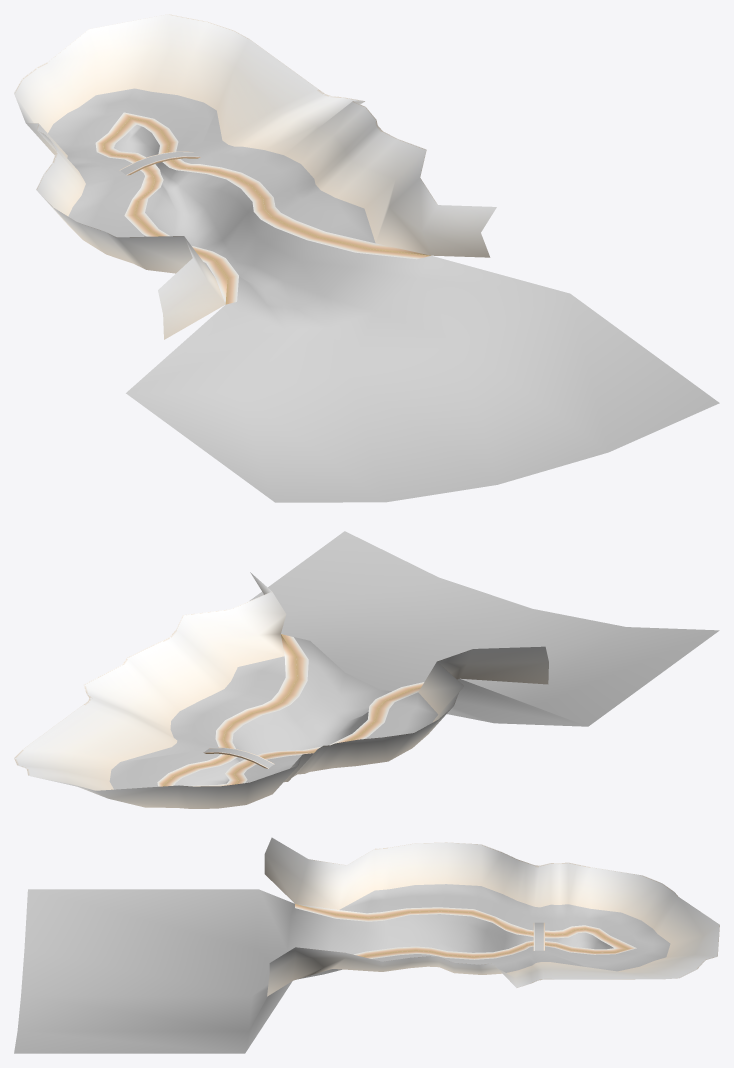
File: Lake2.fbx
3 renders of one model, top to bottom at view 1: azimuth 30°, elevation 25°; view 2: azimuth 150°, elevation 25°; view 3: azimuth 270°, elevation 25°, orthographic. The views are drawn at different scales.
Parts seen in each view (by area): view 1: LakeBed, Land, Shoreline; view 2: LakeBed, Land, Shoreline; view 3: LakeBed, Land, Shoreline.
Boxes of the visible parts, x1=… form: LakeBed: x1=114, y1=124, x2=719, y2=502; Land: x1=14, y1=14, x2=496, y2=339; Shoreline: x1=103, y1=118, x2=430, y2=304; LakeBed: x1=174, y1=531, x2=719, y2=785; Land: x1=14, y1=572, x2=548, y2=808; Shoreline: x1=164, y1=634, x2=424, y2=786; LakeBed: x1=14, y1=889, x2=613, y2=1053; Land: x1=264, y1=837, x2=719, y2=996; Shoreline: x1=295, y1=904, x2=626, y2=956.
Size of what is drawn, in the model's own units: 352 by 96.06 by 639.
Materials: 2 (1 with a texture image).
